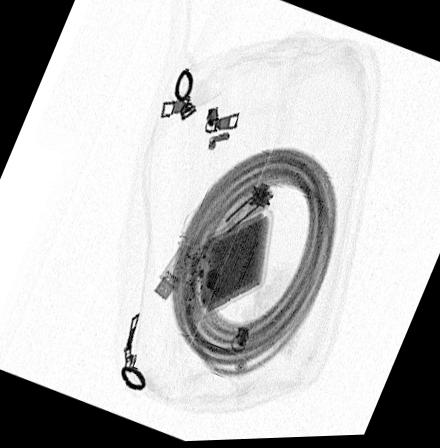Powerbank: (180, 209, 273, 325)
